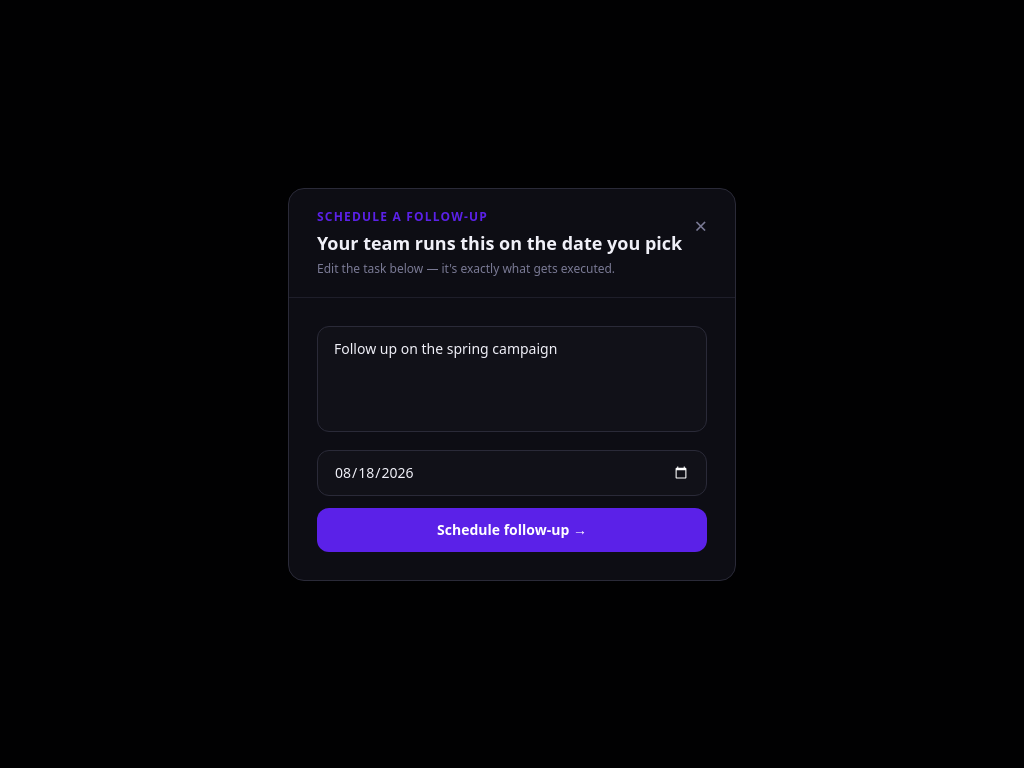
Scenario: ScheduleFollowupModal — save path (status:'planned') › create failure → retry notice, modal stays open, never throws
The image size is (1024, 768).
Click the button "Schedule follow-up →". click: (512, 530)
box: [317, 508, 707, 552]
Wait 2000 ms
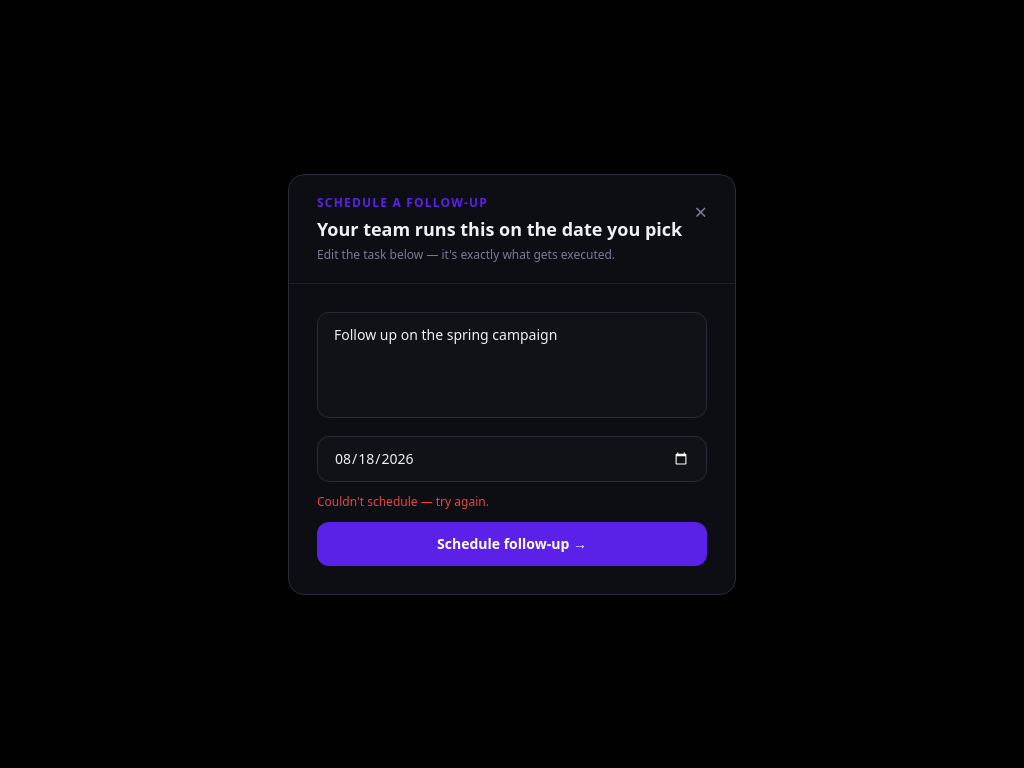
Expected: the text "Couldn't schedule — try again." is shown, [317, 492, 489, 510]
